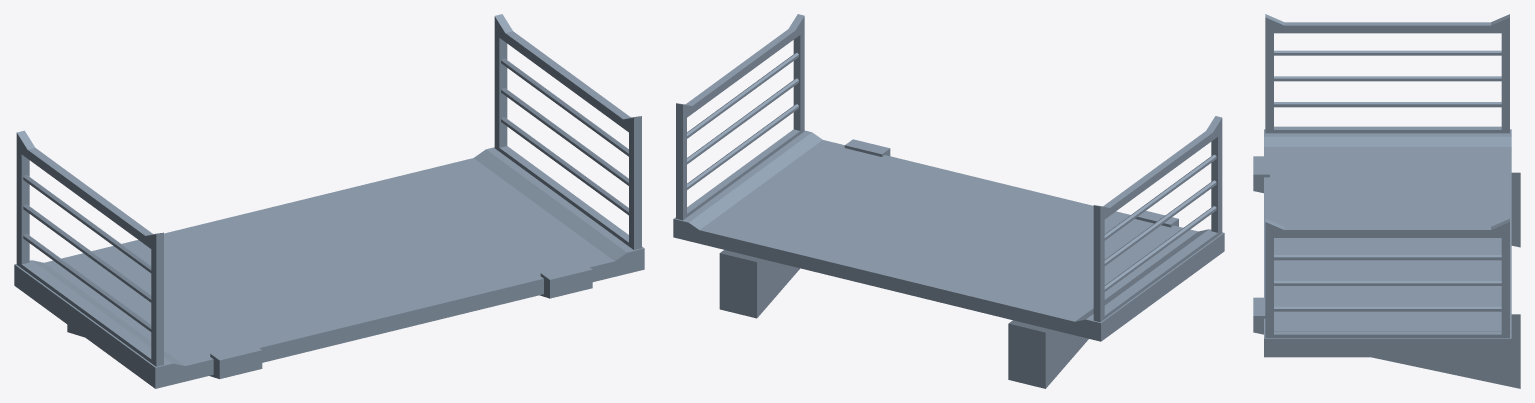
File: Cube_121_geometry-panic-factory_001.fbx
3 views of the same model, side by side, from view 1: azimuth 30°, elevation 25°; view 2: azimuth 150°, elevation 25°; view 3: azimuth 270°, elevation 25° (orthographic). The views are drawn at different scales.
Parts seen in each view (by area): view 1: Cube.121.geometry-panic-factory.001; view 2: Cube.121.geometry-panic-factory.001; view 3: Cube.121.geometry-panic-factory.001.
Boxes of the visible parts, x1,y1,x2,y2 form: Cube.121.geometry-panic-factory.001: (14, 14, 644, 388); Cube.121.geometry-panic-factory.001: (673, 14, 1224, 388); Cube.121.geometry-panic-factory.001: (1253, 14, 1520, 388).
Bounding box in the file's own units: 2 × 0.8509 × 1.08.
